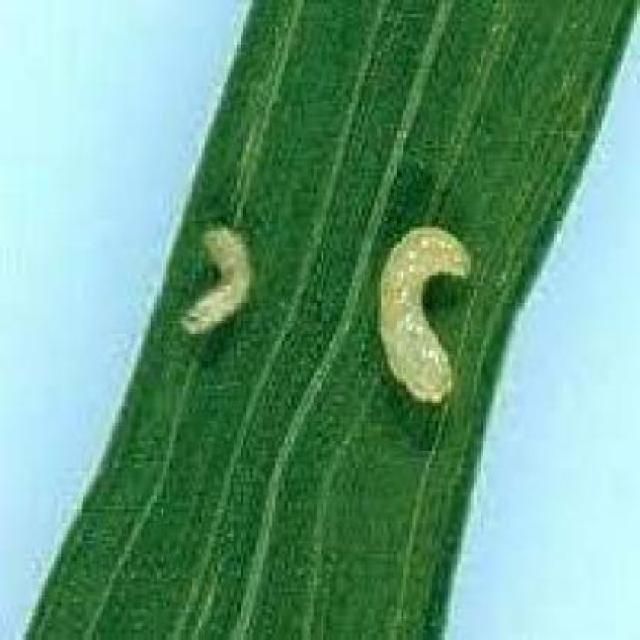whorl-maggot: (364, 206, 478, 419), (180, 198, 268, 359)
